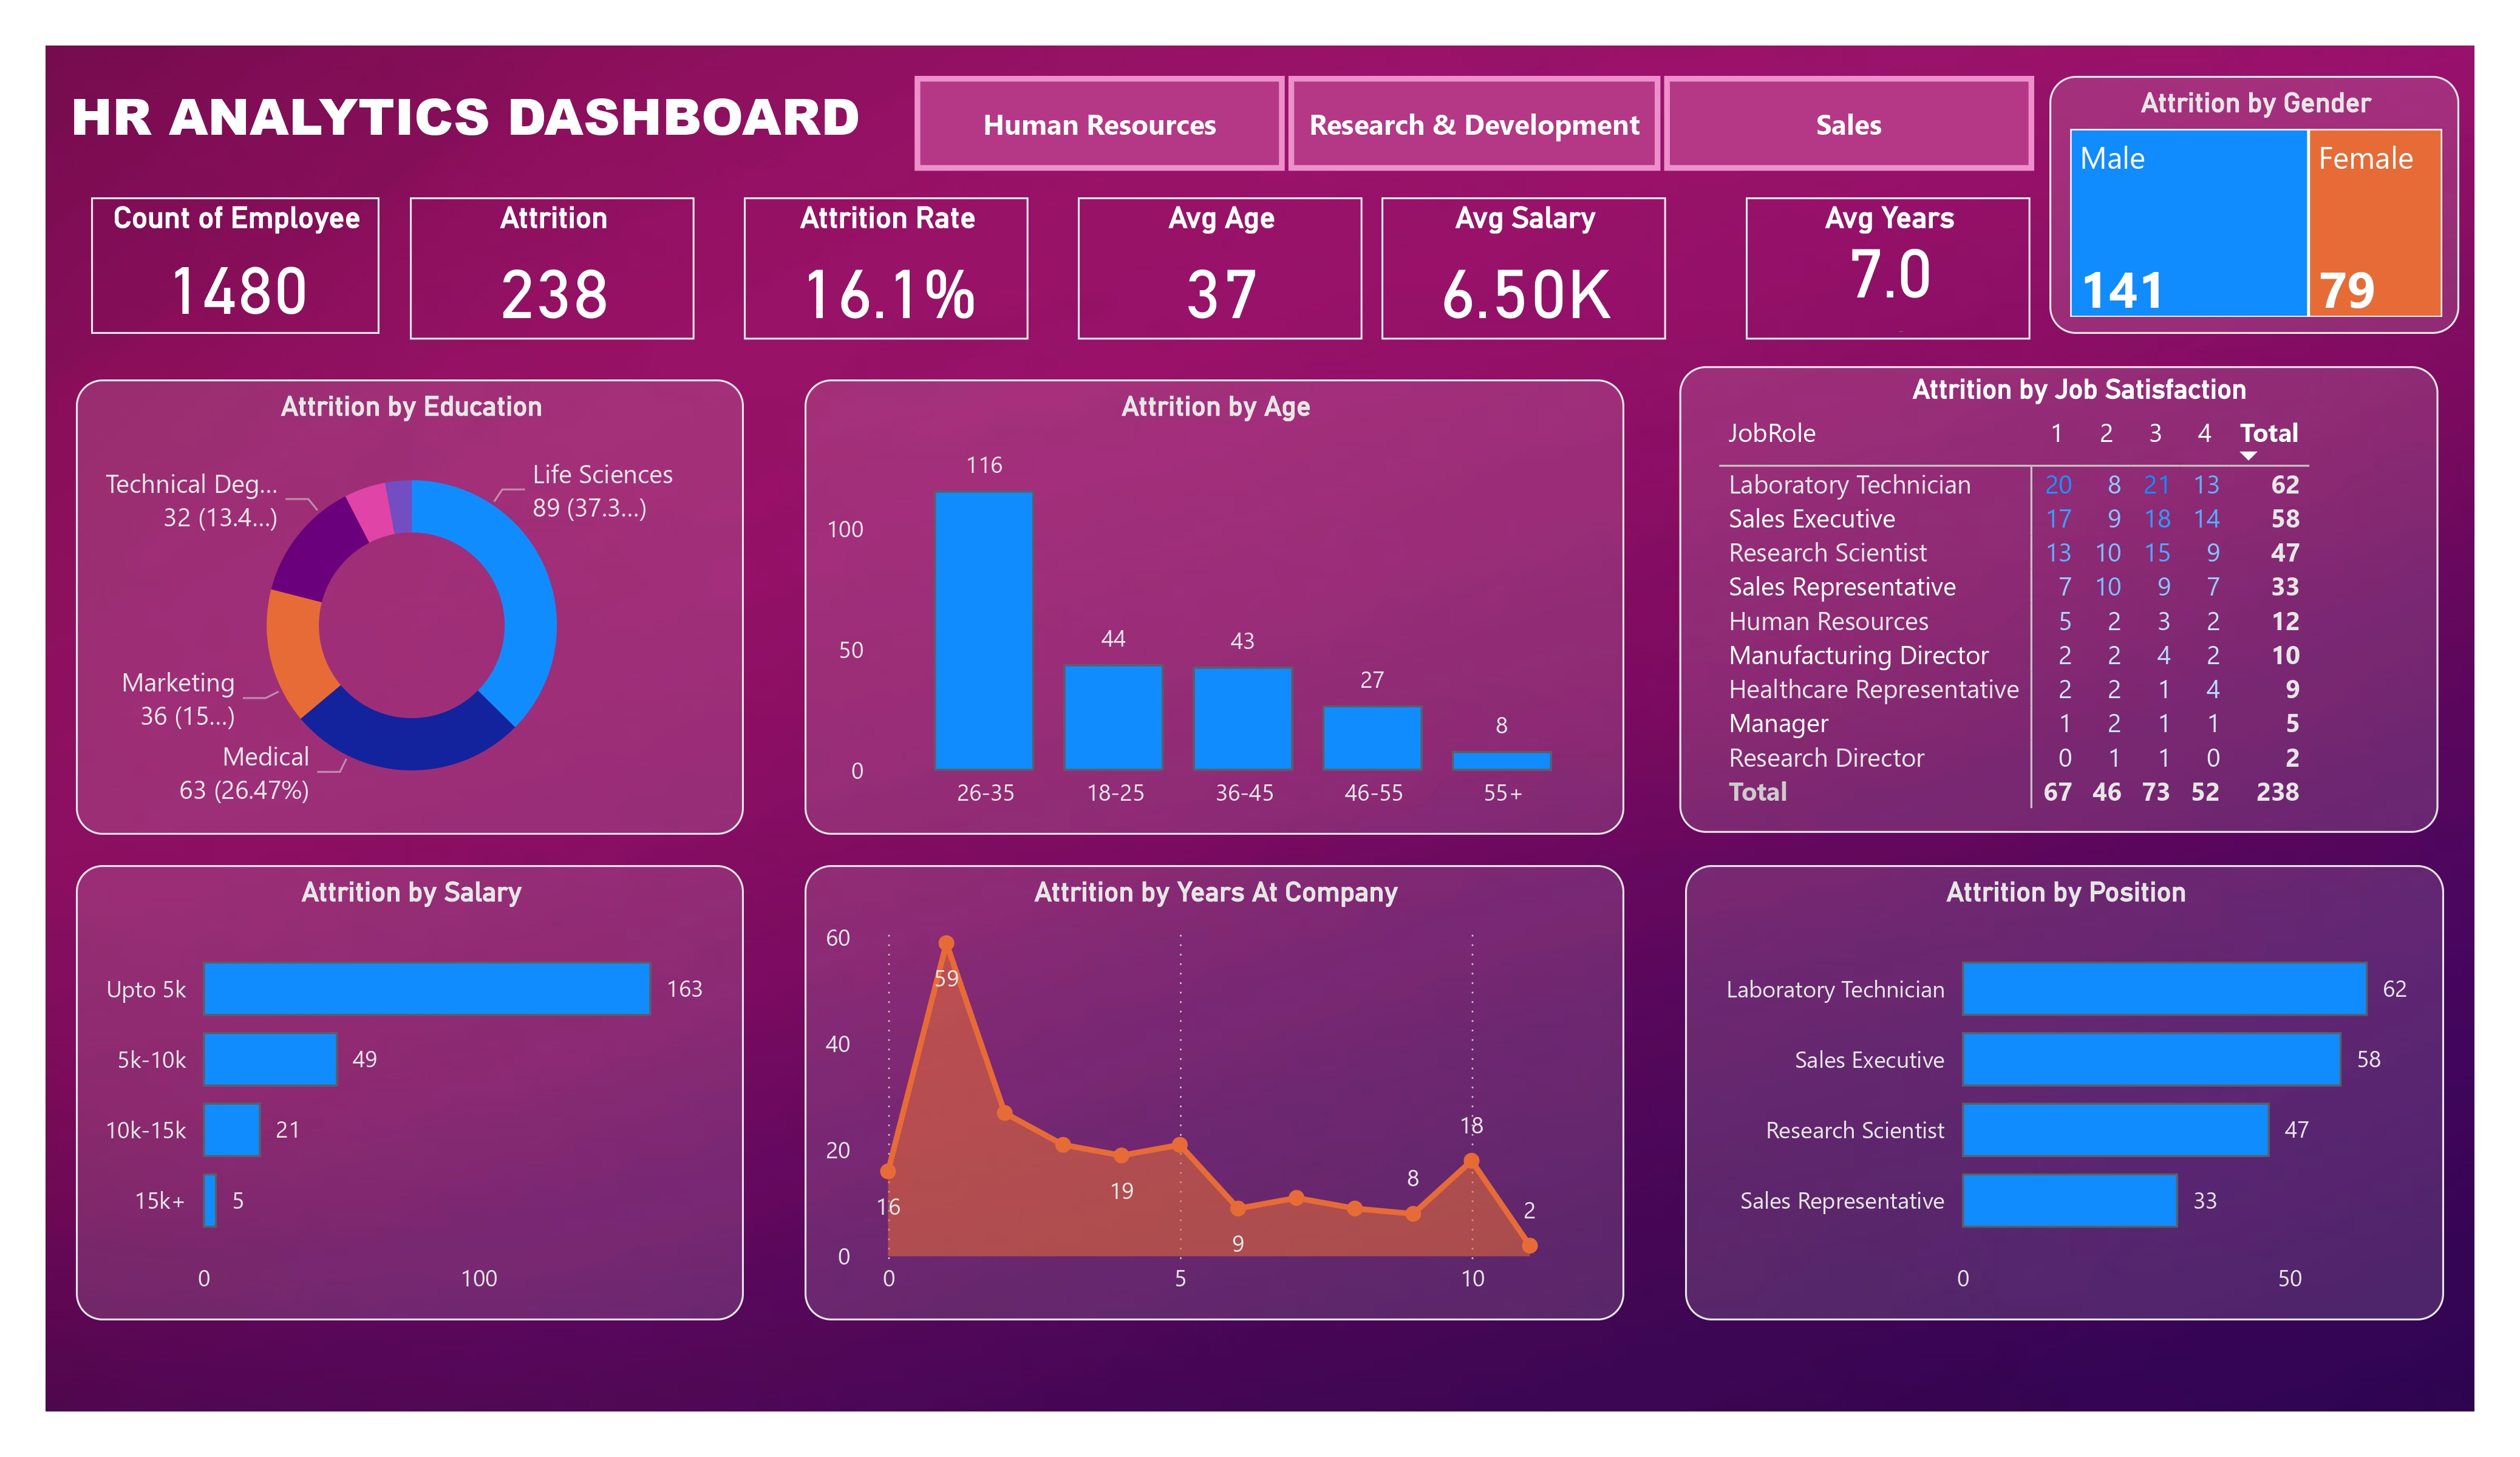

This screenshot's page, from the dashboard's own definition file:
{"tool":"powerbi","page":{"name":"Page 1","canvas":[1280,720],"ordinal":0},"visuals":[{"type":"card","title":"Count of Employee","fields":{"Values":["CountNonNull(HR_Analytics.EmpID)"]},"box":[24,80,152,72],"z":0},{"type":"card","title":"Attrition Rate","fields":{"Values":["HR_Analytics.AttritionRate"]},"box":[368,80,150,75],"z":1000},{"type":"card","title":"Avg Age","fields":{"Values":["Avg(HR_Analytics.Age)"]},"box":[544,80,150,75],"z":2000},{"type":"card","title":"Avg Salary","fields":{"Values":["Avg(HR_Analytics.MonthlyIncome)"]},"box":[704,80,150,75],"z":3000},{"type":"card","title":"Attrition","fields":{"Values":["Sum(HR_Analytics.AttritionCount)"]},"box":[192,80,150,75],"z":4000},{"type":"card","title":"Avg Years","fields":{"Values":["Avg(HR_Analytics.YearsAtCompany)"]},"box":[896,80,150,75],"z":5000},{"type":"donutChart","title":"Attrition by Education","fields":{"Category":["HR_Analytics.EducationField"],"Y":["Sum(HR_Analytics.AttritionCount)"]},"box":[16,176,352,240],"z":6000},{"type":"clusteredColumnChart","title":"Attrition by Age","fields":{"Category":["HR_Analytics.AgeGroup"],"Y":["Sum(HR_Analytics.AttritionCount)"]},"box":[400,176,432,240],"z":7000},{"type":"pivotTable","title":"Attrition by Job Satisfaction","fields":{"Rows":["HR_Analytics.JobRole"],"Columns":["HR_Analytics.JobSatisfaction"],"Values":["Sum(HR_Analytics.AttritionCount)"]},"box":[861,169,400,246],"z":8000},{"type":"clusteredBarChart","title":"Attrition by Salary","fields":{"Category":["HR_Analytics.SalarySlab"],"Y":["Sum(HR_Analytics.AttritionCount)"]},"box":[16,432,352,240],"z":9000},{"type":"clusteredBarChart","title":"Attrition by Position","fields":{"Y":["Sum(HR_Analytics.AttritionCount)"],"Category":["HR_Analytics.JobRole"]},"box":[864,432,400,240],"z":10000},{"type":"areaChart","title":"Attrition by Years At Company","fields":{"Category":["HR_Analytics.YearsAtCompany"],"Y":["Sum(HR_Analytics.AttritionCount)"]},"box":[400,432,432,240],"z":11000},{"type":"treemap","title":"Attrition by Gender","fields":{"Group":["HR_Analytics.Gender"],"Values":["Sum(HR_Analytics.AttritionCount)"]},"box":[1056,16,216,136],"z":12000},{"type":"slicer","fields":{"Values":["HR_Analytics.Department"]},"box":[437.1,14.4,630.4,54],"z":13000},{"type":"textbox","box":[8.4,13.2,450.3,54],"z":14000}]}

Visuals, with their boxes in screenshot pixels (x1, y1, x2, y2):
"Count of Employee" card: <region>91, 197, 380, 334</region>
"Attrition Rate" card: <region>744, 197, 1029, 339</region>
"Avg Age" card: <region>1078, 197, 1363, 339</region>
"Avg Salary" card: <region>1381, 197, 1666, 339</region>
"Attrition" card: <region>410, 197, 695, 339</region>
"Avg Years" card: <region>1746, 197, 2031, 339</region>
"Attrition by Education" donutChart: <region>76, 379, 744, 835</region>
"Attrition by Age" clusteredColumnChart: <region>805, 379, 1624, 835</region>
"Attrition by Job Satisfaction" pivotTable: <region>1680, 366, 2439, 833</region>
"Attrition by Salary" clusteredBarChart: <region>76, 865, 744, 1320</region>
"Attrition by Position" clusteredBarChart: <region>1685, 865, 2444, 1320</region>
"Attrition by Years At Company" areaChart: <region>805, 865, 1624, 1320</region>
"Attrition by Gender" treemap: <region>2049, 76, 2459, 334</region>
slicer - HR_Analytics.Department: <region>875, 73, 2071, 175</region>
textbox: <region>61, 70, 916, 173</region>
